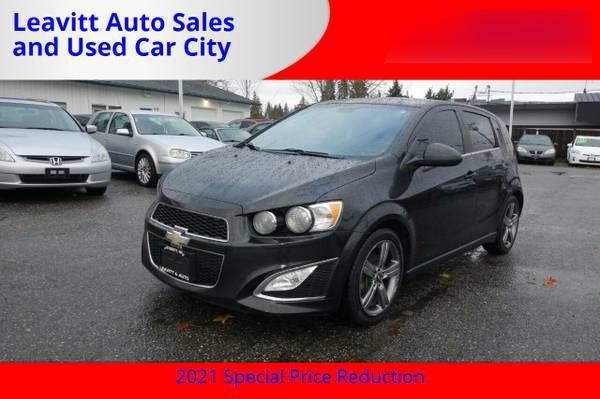Front_Bumper: (210, 213, 365, 315)
Front_Fender: (314, 150, 420, 278)
Front_Left_Door: (415, 153, 477, 273)
Front_Left_Window: (410, 108, 472, 167)
Front_Windshield: (244, 104, 421, 159)
Grille: (141, 201, 232, 292)
Hood: (159, 141, 375, 212)
Left_Headlight: (245, 200, 343, 238)
Rear_Fender: (501, 145, 520, 190)
Rear_Left_Door: (471, 147, 510, 245)
Rear_Left_Window: (461, 108, 500, 156)
Roof: (318, 94, 512, 154)
Wheel: (347, 229, 405, 322), (485, 198, 522, 252)
